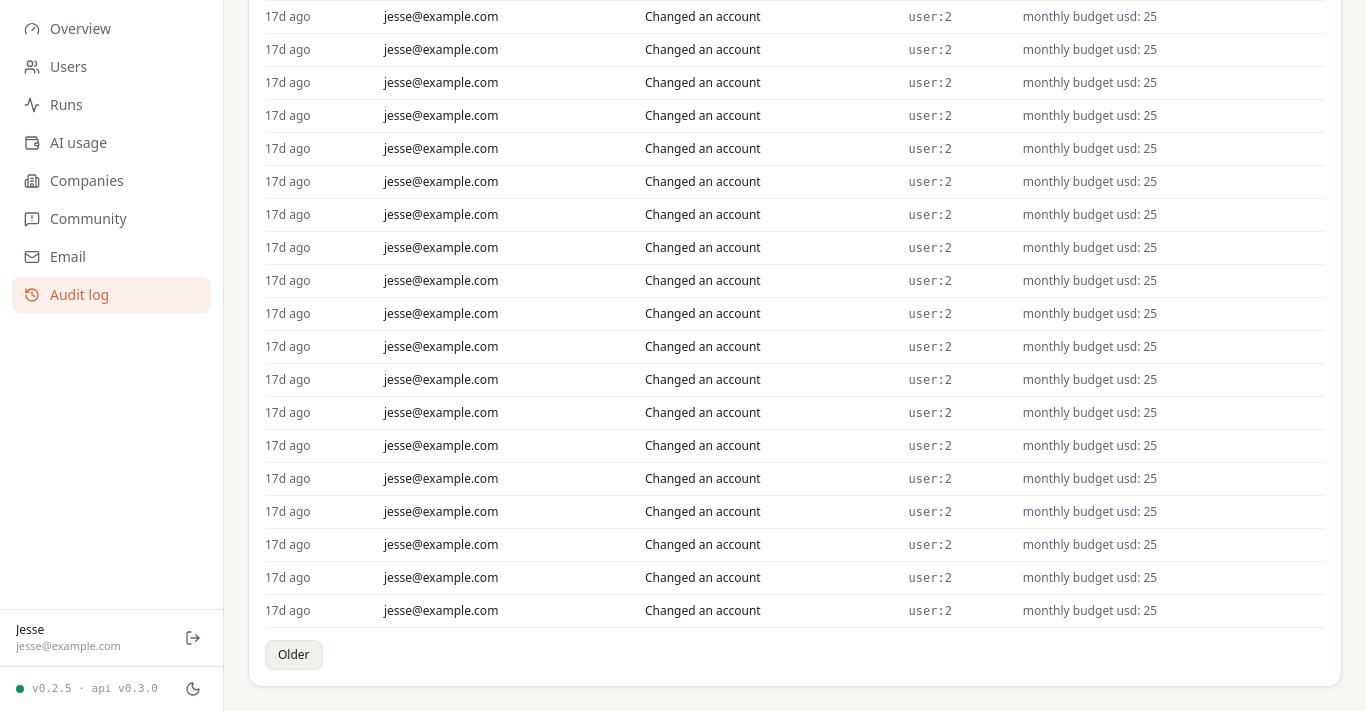
Test case: AuditPage › describes each change and loads older ones
This screenshot has width=1366, height=711.
(page scrolled)
Click the button "Older": (294, 655) [265,640,323,670]
(page scrolled)
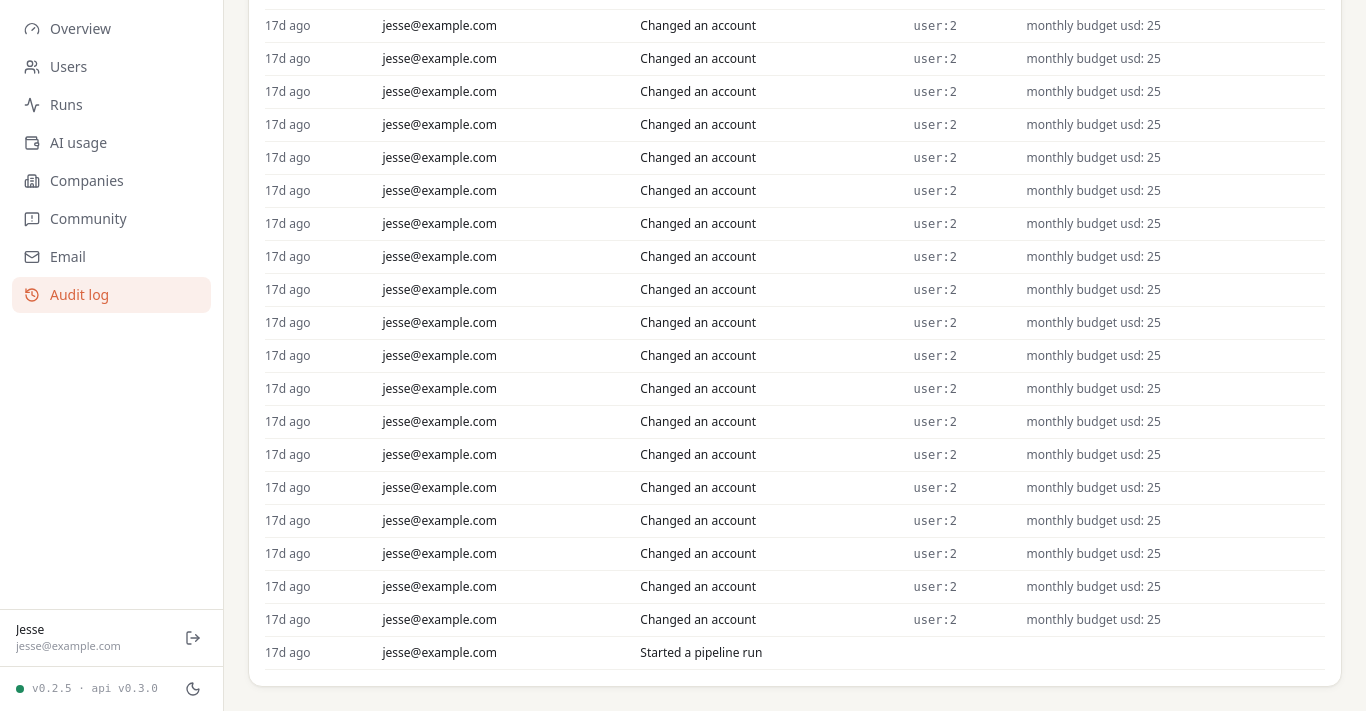
Expected: the text "Started a pipeline run" is shown, [640,636,914,669]
Expected: the button "Older" is gone
